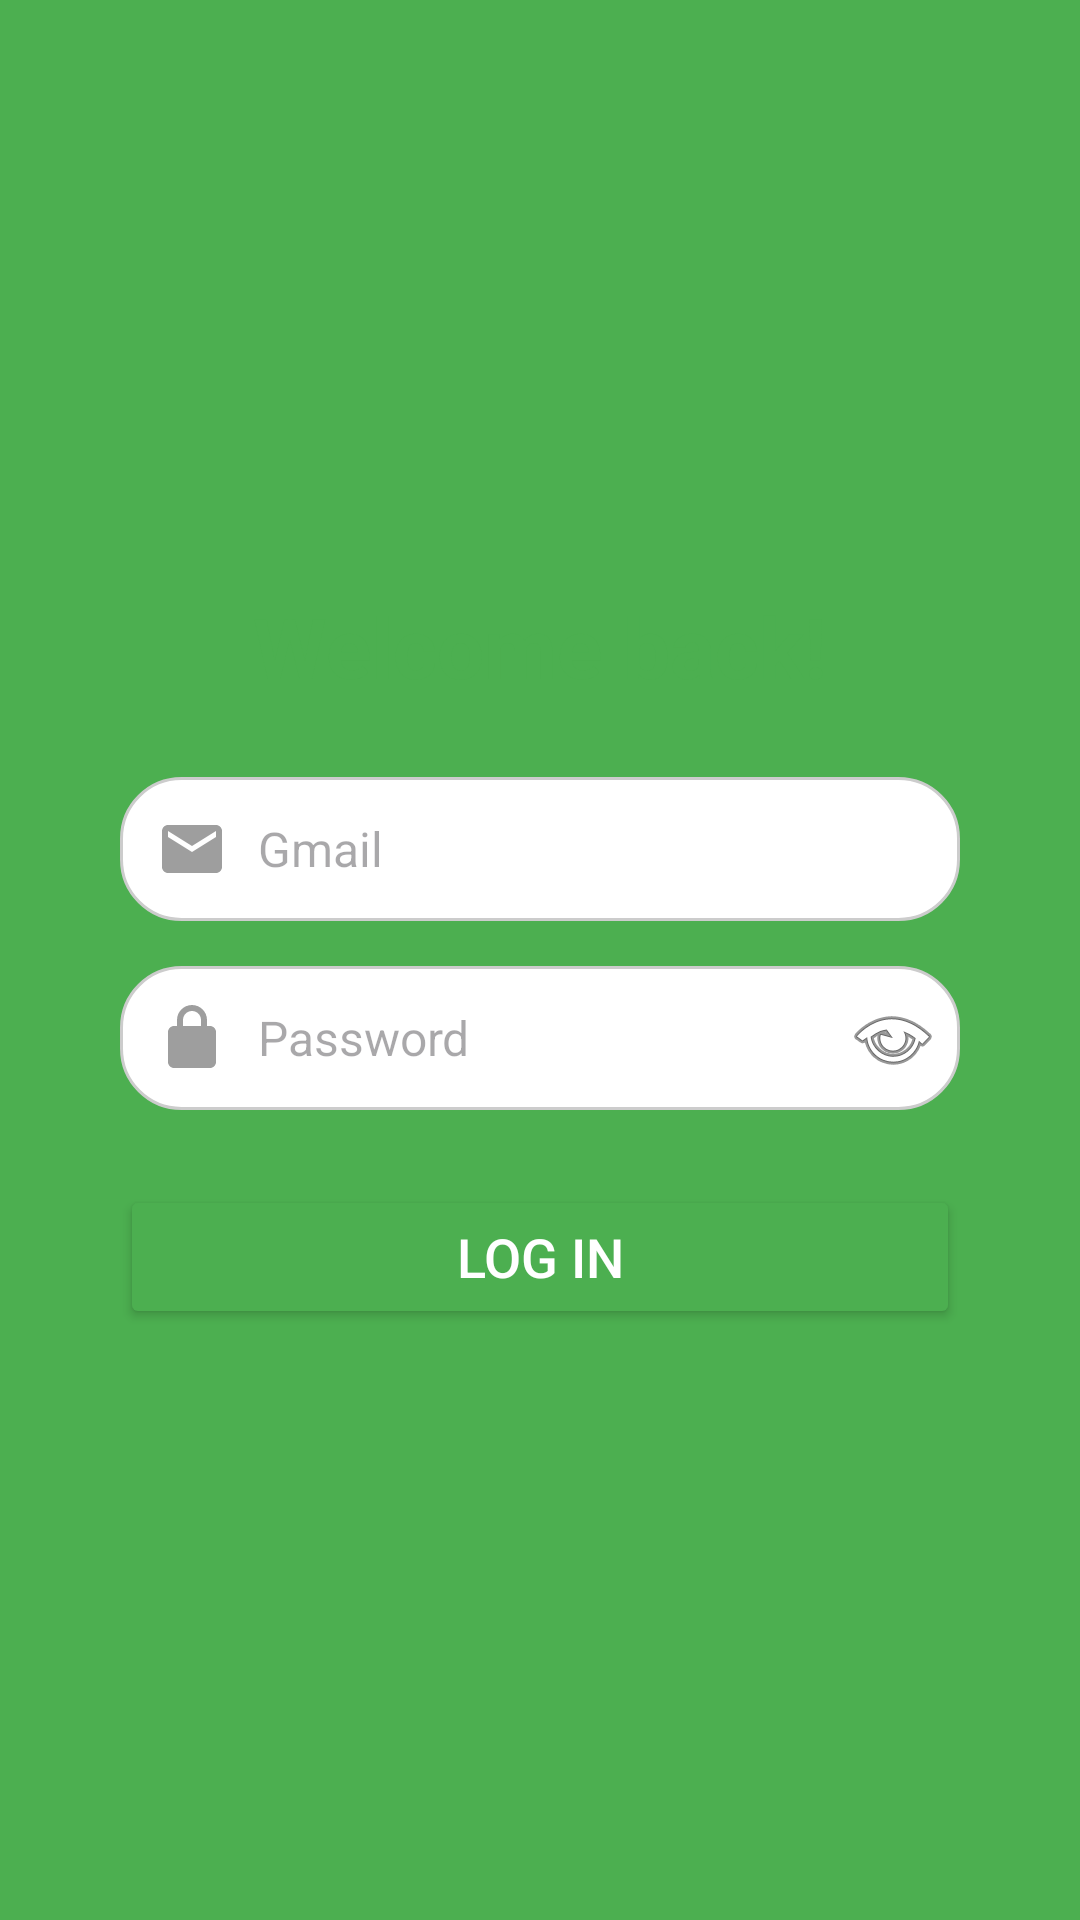

Named icons in this screenshot (1080×1920) and their bounding boxes, region(x1, y1, x2, y2):
view: region(825, 966, 960, 1110)
